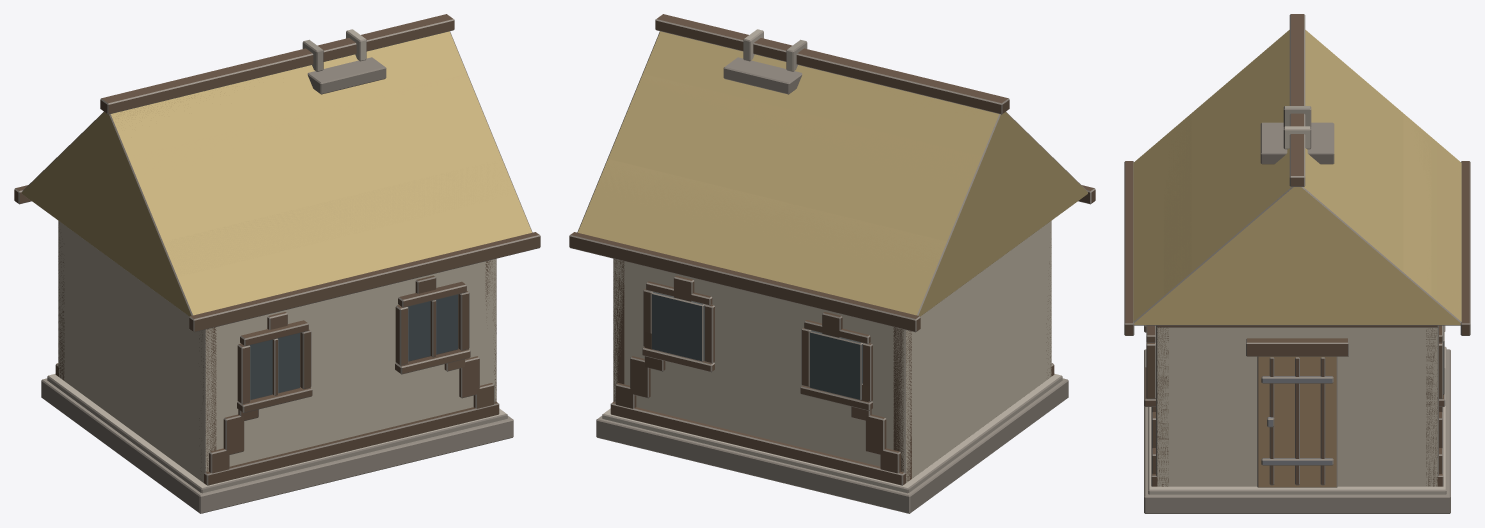
The model's file is SM_Kit_casa_d.fbx.
3 renders of one model, left to right at view 1: azimuth 30°, elevation 25°; view 2: azimuth 150°, elevation 25°; view 3: azimuth 270°, elevation 25°, orthographic. The views are drawn at different scales.
Visible parts, largest first — view 1: SM_Kit_casa_d; view 2: SM_Kit_casa_d; view 3: SM_Kit_casa_d.
Part boxes in pixels (bbox=[...]): SM_Kit_casa_d: bbox=[14, 14, 540, 513]; SM_Kit_casa_d: bbox=[569, 14, 1095, 513]; SM_Kit_casa_d: bbox=[1124, 14, 1470, 513].
Size of what is drawn, in the model's own units: 546 by 547 by 490.
